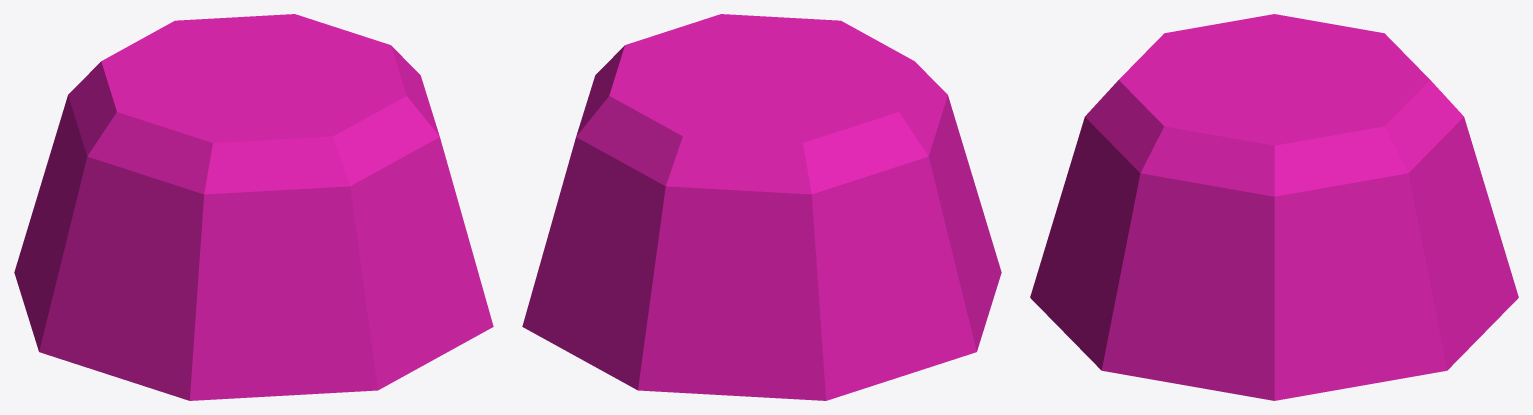
Rendered from Gumdrop.fbx.
3 renders of one model, left to right at view 1: azimuth 30°, elevation 25°; view 2: azimuth 150°, elevation 25°; view 3: azimuth 270°, elevation 25°, orthographic.
Visible parts, largest first — view 1: Cylinder; view 2: Cylinder; view 3: Cylinder.
Part boxes in pixels (<box>): Cylinder: <box>14,14,493,400</box>; Cylinder: <box>522,14,1001,400</box>; Cylinder: <box>1030,14,1518,400</box>.
Size of the model in its own units: 200 by 200 by 98.33.
